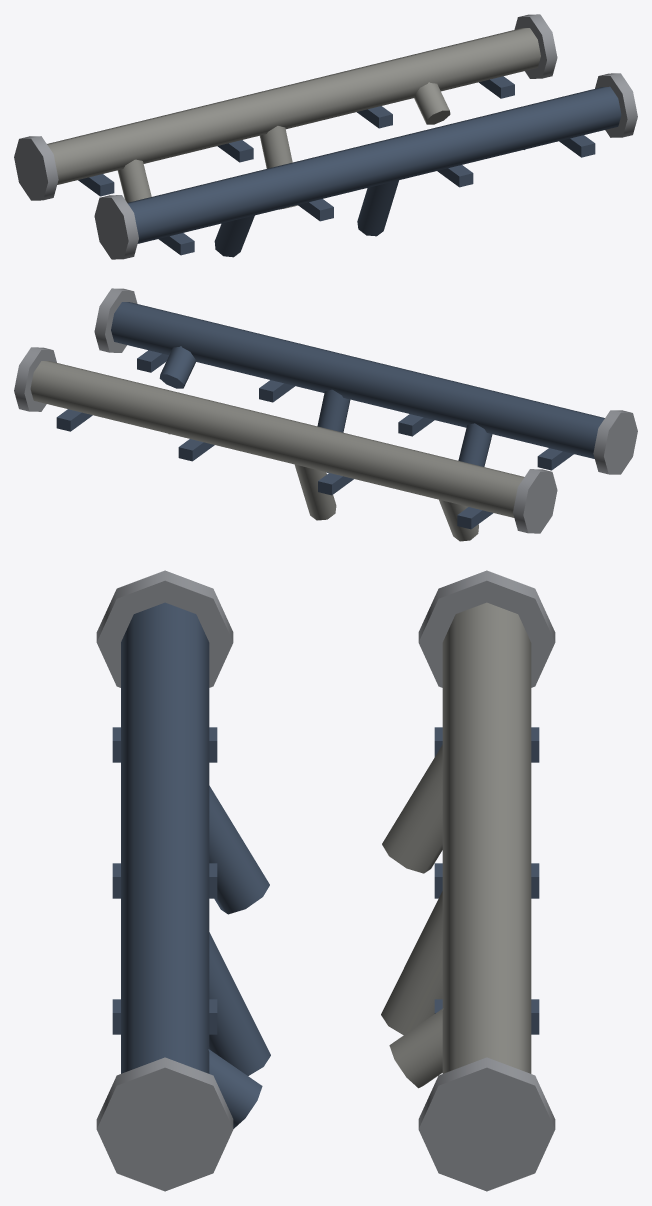
File: ko300_pipes.obj
3 views of the same model, one above another, from view 1: azimuth 30°, elevation 25°; view 2: azimuth 150°, elevation 25°; view 3: azimuth 270°, elevation 25° (orthographic). The views are drawn at different scales.
Parts seen in each view (by area): view 1: ko300_pipes; view 2: ko300_pipes; view 3: ko300_pipes.
Boxes of the visible parts, x1,y1,x2,y2 form: ko300_pipes: (14,14,637,259); ko300_pipes: (14,288,637,541); ko300_pipes: (96,570,555,1191).
Size of the model in its own units: 2.92 by 0.6409 by 1.14.
